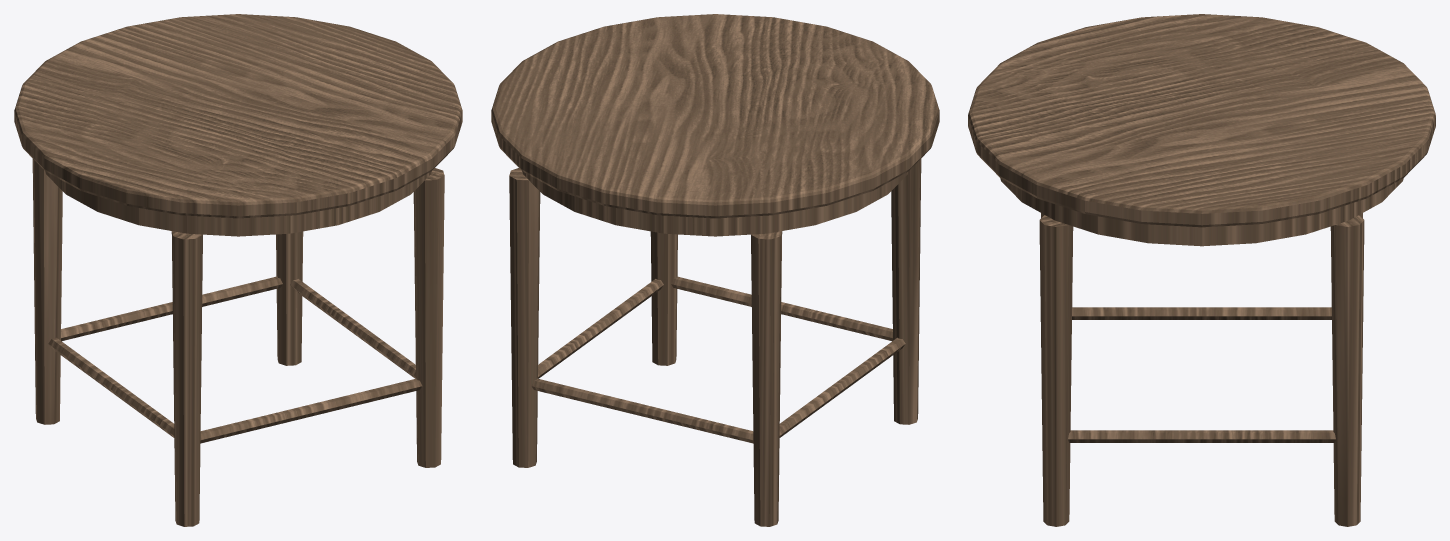
Rendered from round_table.glb.
The picture shows the model from 3 angles, left to right: view 1: azimuth 30°, elevation 25°; view 2: azimuth 150°, elevation 25°; view 3: azimuth 270°, elevation 25°; orthographic projection. The views are drawn at different scales.
Parts seen in each view (by area): view 1: round_table; view 2: round_table; view 3: round_table.
Part boxes in pixels (x1,y1,x2,y2): round_table: [14, 14, 462, 526]; round_table: [491, 14, 939, 526]; round_table: [968, 14, 1435, 526].
Size of the model in its own units: 0.9 by 0.74 by 0.9.
Materials: 1 (1 with a texture image).
